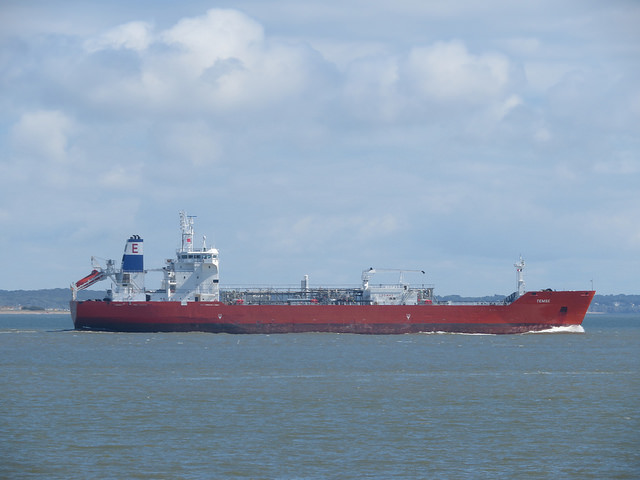tanker: (68, 215, 605, 336)
